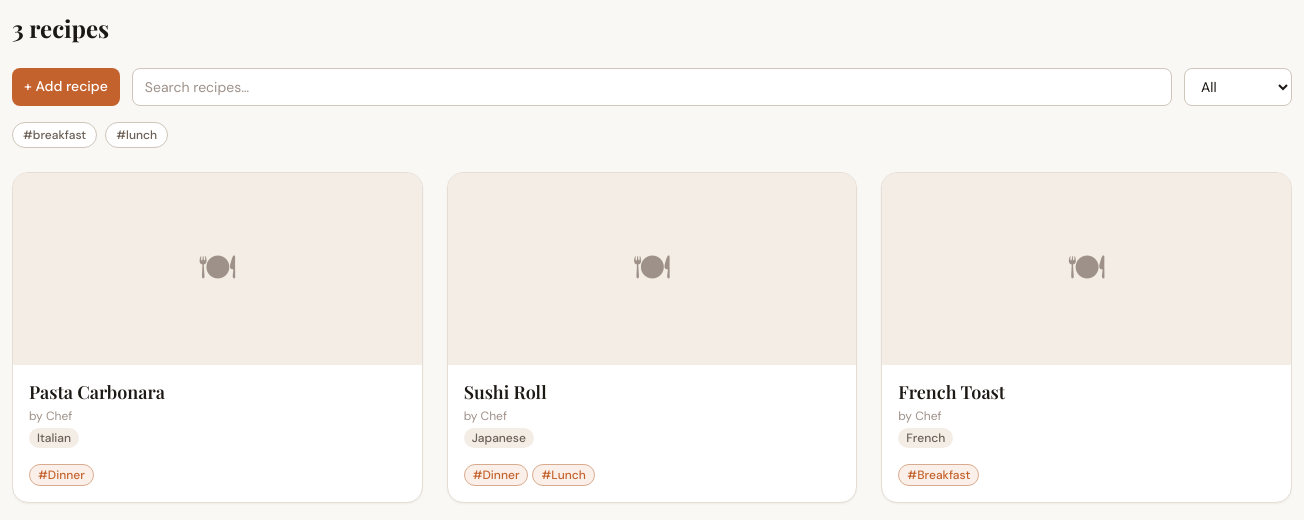
it: RecipeGrid › filters by cuisine dropdown
The width and height of the screenshot is (1304, 520).
Select "Japanese" in the dropdown: (1238, 87) x1=1184 y1=68 x2=1292 y2=106
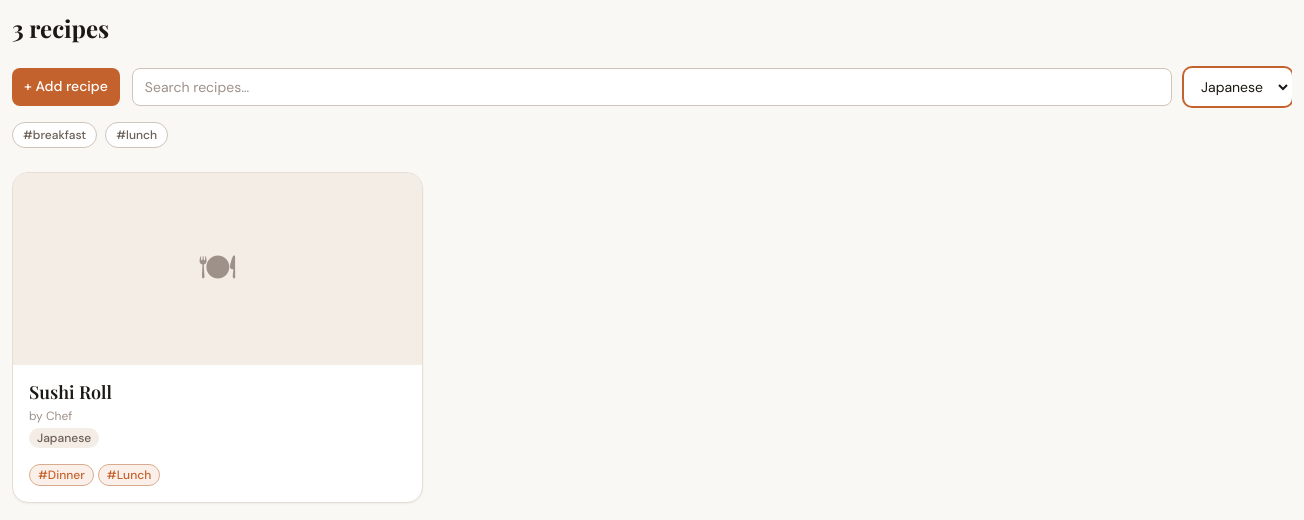
Expected: the heading "Sushi Roll" is shown, x1=29 y1=380 x2=112 y2=404
Expected: the link "Pasta Carbonara" is gone
